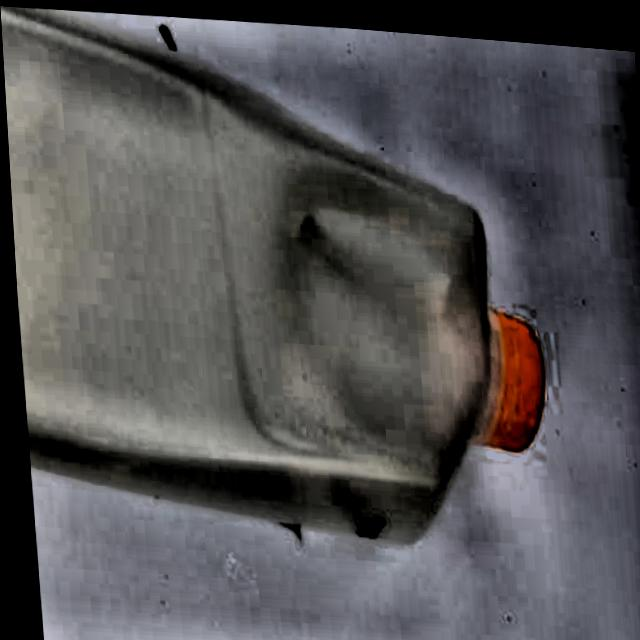Plastic: (0, 0, 559, 574)
